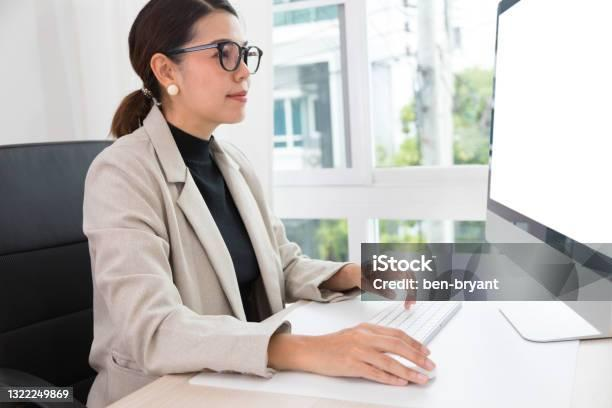Good Sitting Posture: (80, 0, 439, 406)
